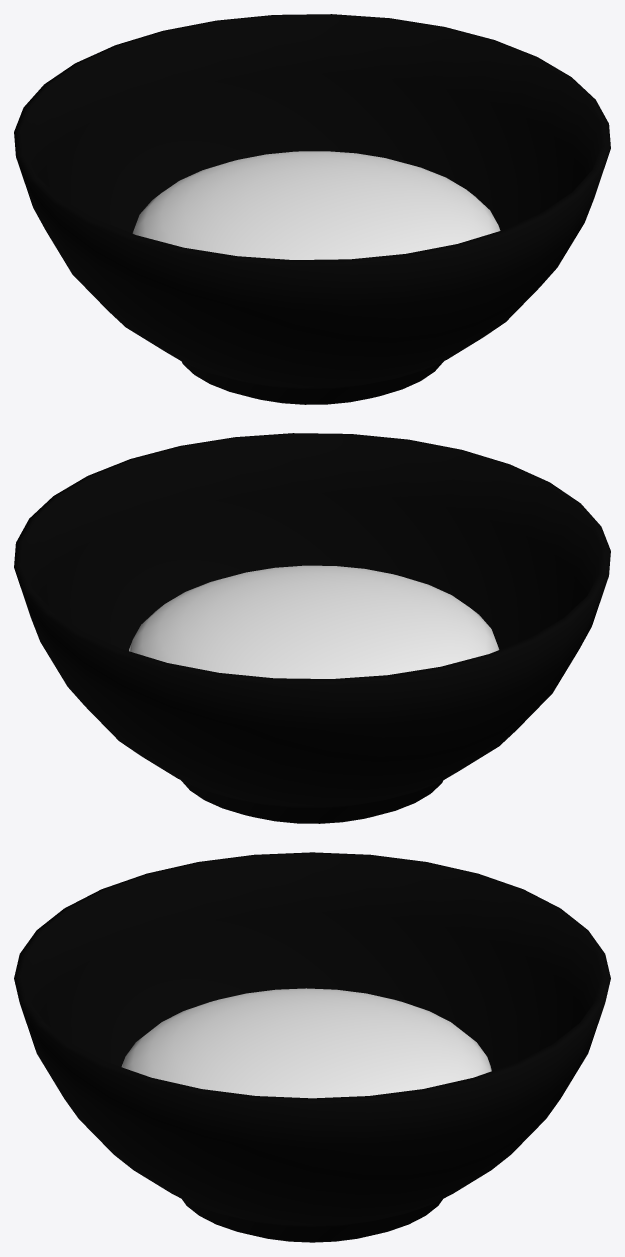
The model's file is gula jwa fix.fbx.
The picture shows the model from 3 angles, top to bottom: view 1: azimuth 30°, elevation 25°; view 2: azimuth 150°, elevation 25°; view 3: azimuth 270°, elevation 25°; orthographic projection.
Visible parts, largest first — view 1: mangkok, Sphere; view 2: mangkok, Sphere; view 3: mangkok, Sphere.
Part boxes in pixels (x1=…): mangkok: x1=14, y1=14, x2=610, y2=404; Sphere: x1=132, y1=151, x2=500, y2=259; mangkok: x1=14, y1=433, x2=610, y2=823; Sphere: x1=129, y1=565, x2=499, y2=678; mangkok: x1=14, y1=852, x2=610, y2=1242; Sphere: x1=121, y1=988, x2=491, y2=1098.
Size of the model in its own units: 196 by 78.8 by 196.
